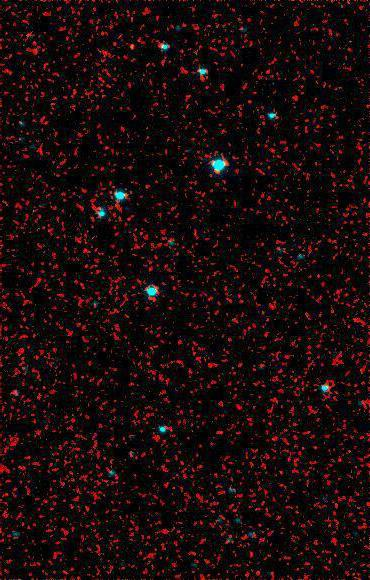star: (203, 418, 233, 448)
